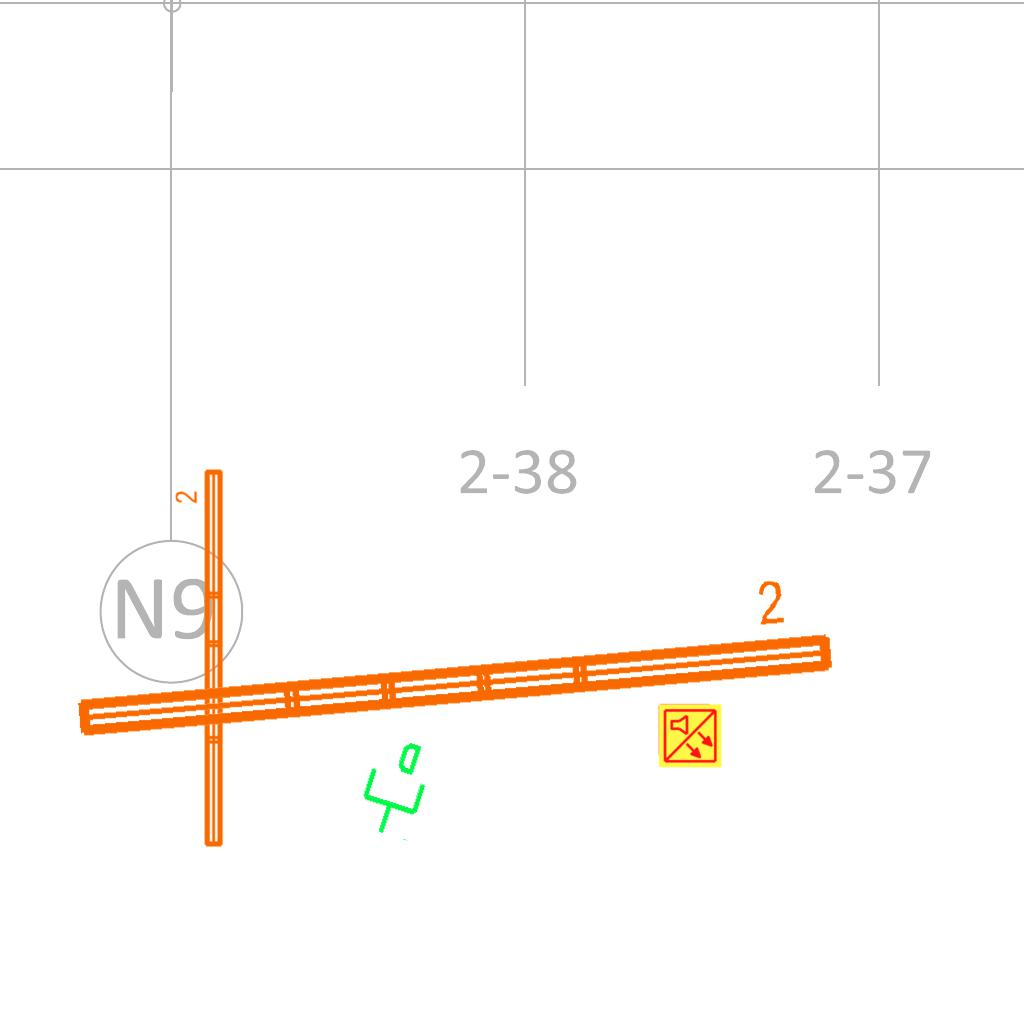Ambulanz_Pendelleuchte_LED: (61, 570, 843, 750), (173, 465, 229, 852)
Datenanschluss_einfach: (345, 728, 442, 846)
OKW_Multisensormelder_(Kombination_optischer_Rauch-Kahlenmonoxid_Waerme-Melder): (657, 703, 723, 769)
